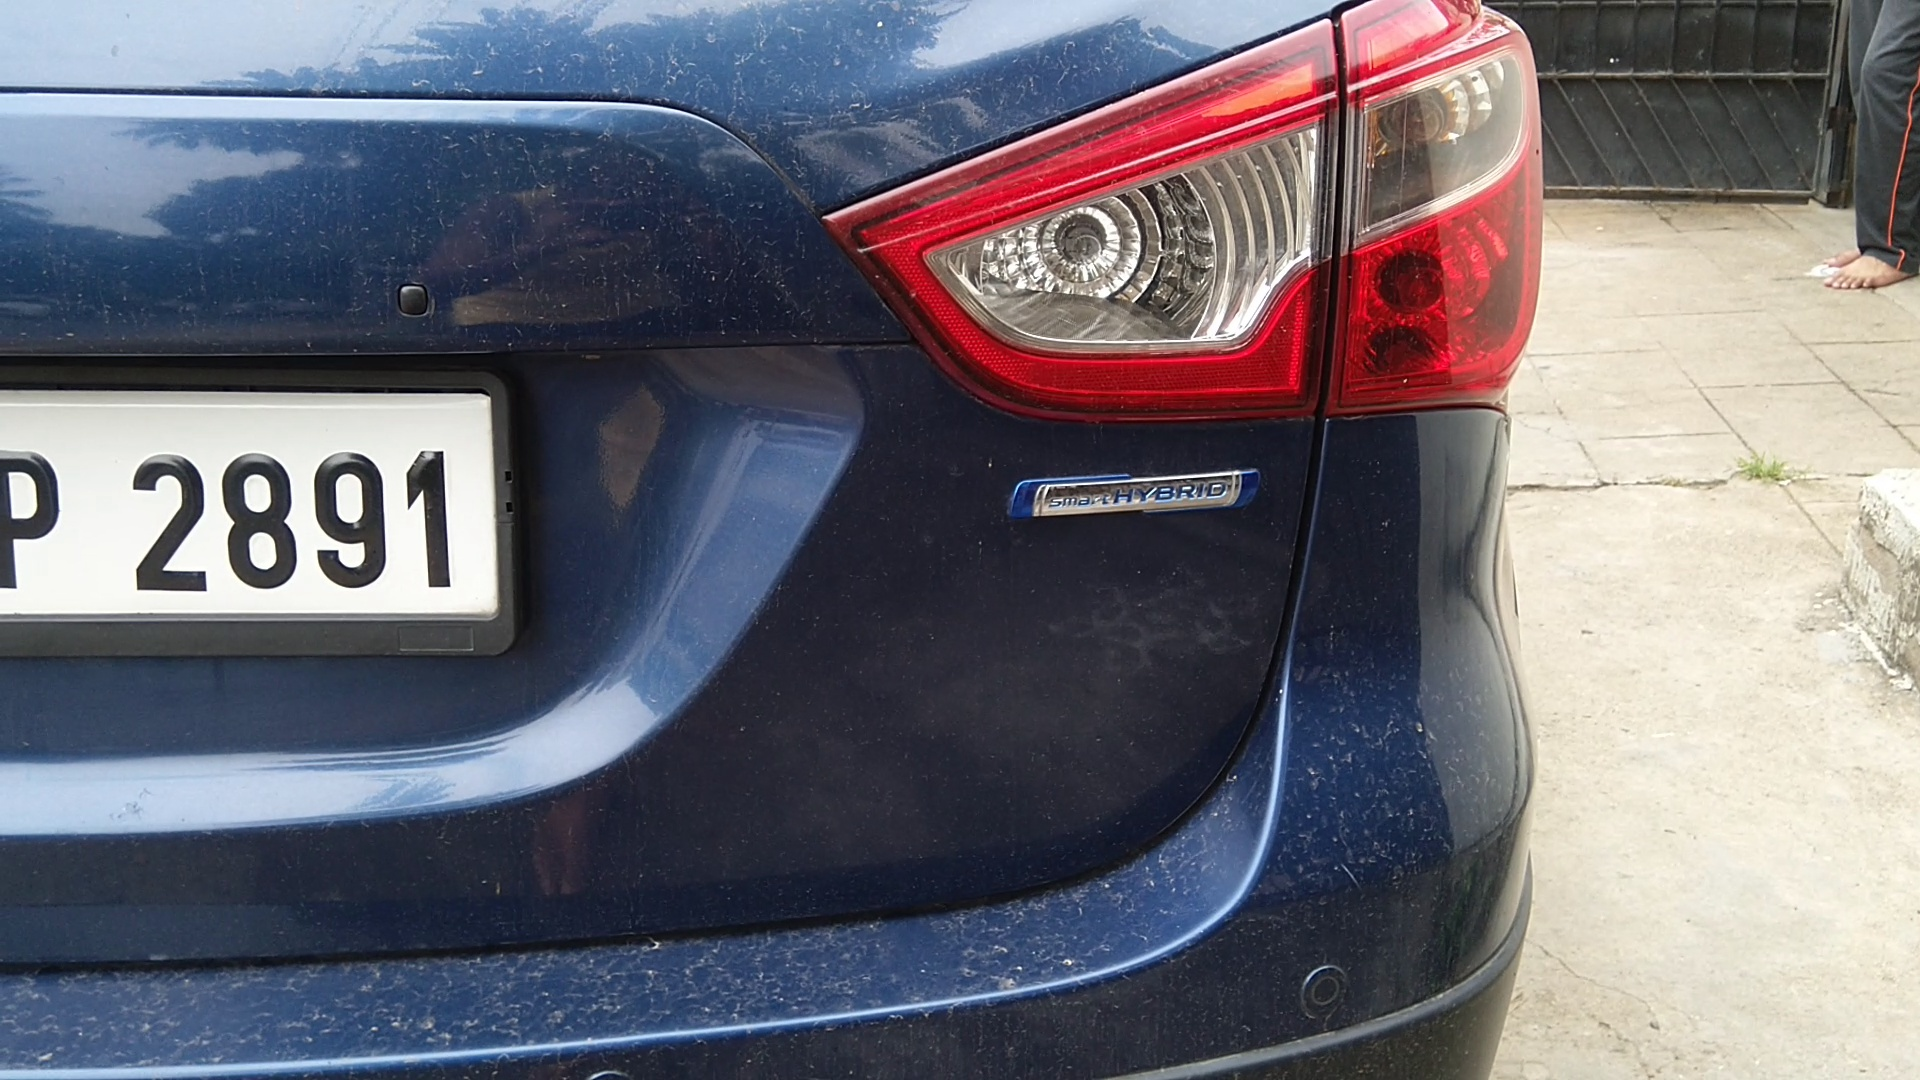shvs: (985, 436, 1300, 563)
